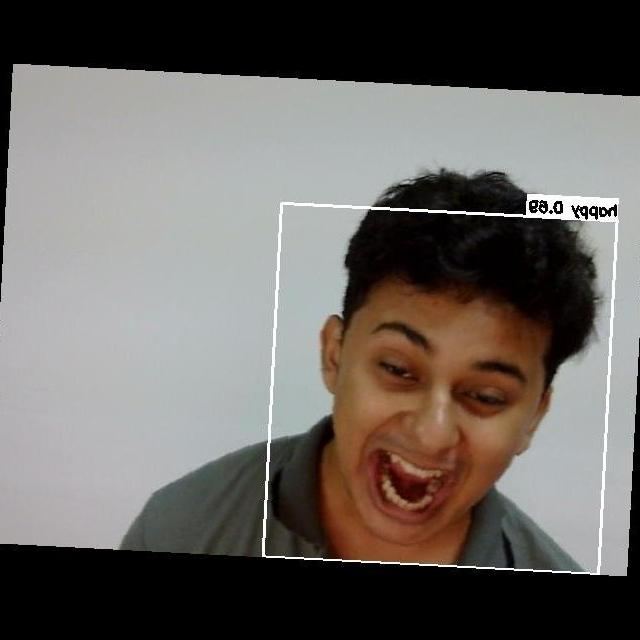Surprised: (336, 301, 522, 541)
